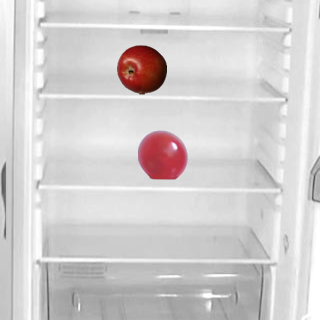Apple Braeburn: (116, 44, 166, 94)
Redcurrant: (137, 129, 187, 179)
